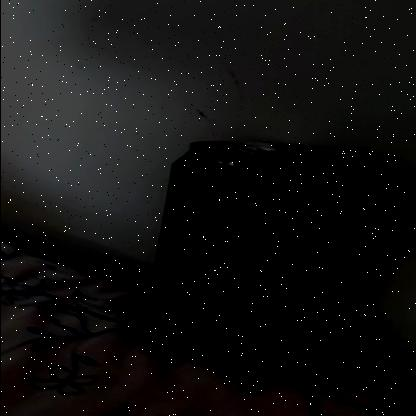Can: (144, 138, 322, 356)
